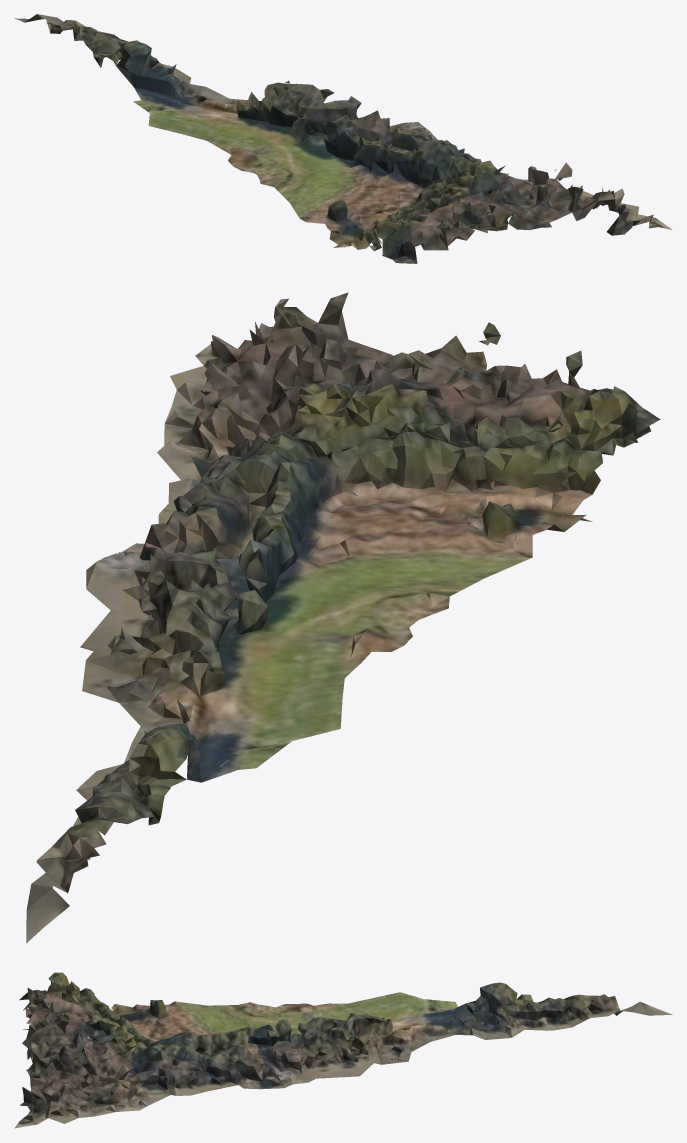
The model's file is Tile_005_011_L17.gltf.
The picture shows the model from 3 angles, top to bottom: view 1: azimuth 30°, elevation 25°; view 2: azimuth 150°, elevation 25°; view 3: azimuth 270°, elevation 25°; orthographic projection. The views are drawn at different scales.
Visible parts, largest first — view 1: Tile_+005_+011_L17; view 2: Tile_+005_+011_L17; view 3: Tile_+005_+011_L17.
Boxes of the visible parts, bbox=[...] form: Tile_+005_+011_L17: bbox=[14, 14, 671, 263]; Tile_+005_+011_L17: bbox=[26, 292, 660, 943]; Tile_+005_+011_L17: bbox=[14, 972, 672, 1128].
Size of the model in its own units: 90.76 by 18.09 by 201.
Materials: 1 (1 with a texture image).
